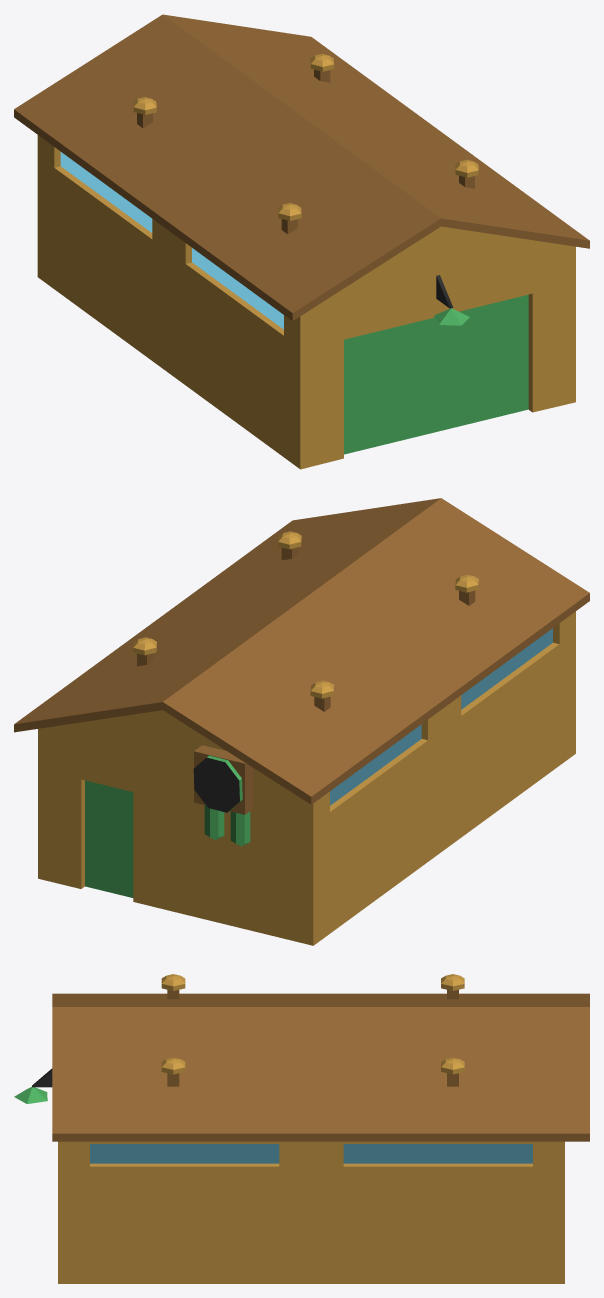
The model's file is warehouse.dae.
3 views of the same model, one above another, from view 1: azimuth 30°, elevation 25°; view 2: azimuth 150°, elevation 25°; view 3: azimuth 270°, elevation 25° (orthographic). The views are drawn at different scales.
Visible parts, largest first — view 1: polymsh1_Pts_Material__5__Surf, polymsh1_Pts_Material__2__Surf, polymsh1_Pts_Material__3__Surf, polymsh1_Pts_Material__1__Surf; view 2: polymsh1_Pts_Material__5__Surf, polymsh1_Pts_Material__2__Surf, polymsh1_Pts_Material__3__Surf, polymsh1_Pts_Material__1__Surf, polymsh1_Pts_Material__4__Surf; view 3: polymsh1_Pts_Material__5__Surf, polymsh1_Pts_Material__2__Surf, polymsh1_Pts_Material__1__Surf.
Boxes of the visible parts, left/top/right/bottom form: polymsh1_Pts_Material__5__Surf: left=14, top=14, right=589, bottom=320; polymsh1_Pts_Material__2__Surf: left=37, top=54, right=575, bottom=469; polymsh1_Pts_Material__3__Surf: left=344, top=294, right=528, bottom=454; polymsh1_Pts_Material__1__Surf: left=60, top=152, right=283, bottom=329; polymsh1_Pts_Material__5__Surf: left=14, top=498, right=589, bottom=814; polymsh1_Pts_Material__2__Surf: left=38, top=531, right=575, bottom=945; polymsh1_Pts_Material__3__Surf: left=85, top=755, right=250, bottom=897; polymsh1_Pts_Material__1__Surf: left=330, top=628, right=552, bottom=805; polymsh1_Pts_Material__4__Surf: left=193, top=757, right=239, bottom=812; polymsh1_Pts_Material__5__Surf: left=52, top=989, right=589, bottom=1141; polymsh1_Pts_Material__2__Surf: left=58, top=974, right=564, bottom=1283; polymsh1_Pts_Material__1__Surf: left=90, top=1144, right=532, bottom=1163.
Bounding box in the file's own units: 55.77 × 39.37 × 96.91.
